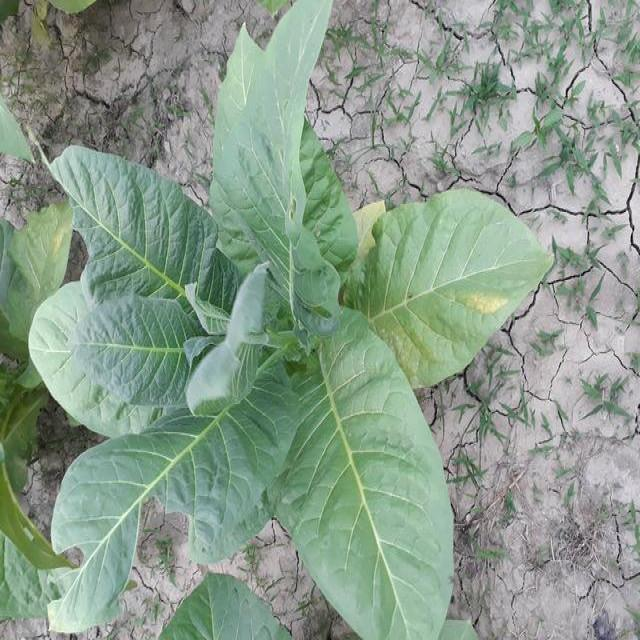crop: (41, 0, 518, 640)
